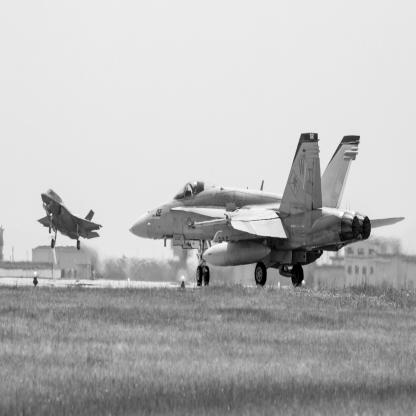F18: (130, 134, 406, 289)
F35: (37, 190, 104, 252)
